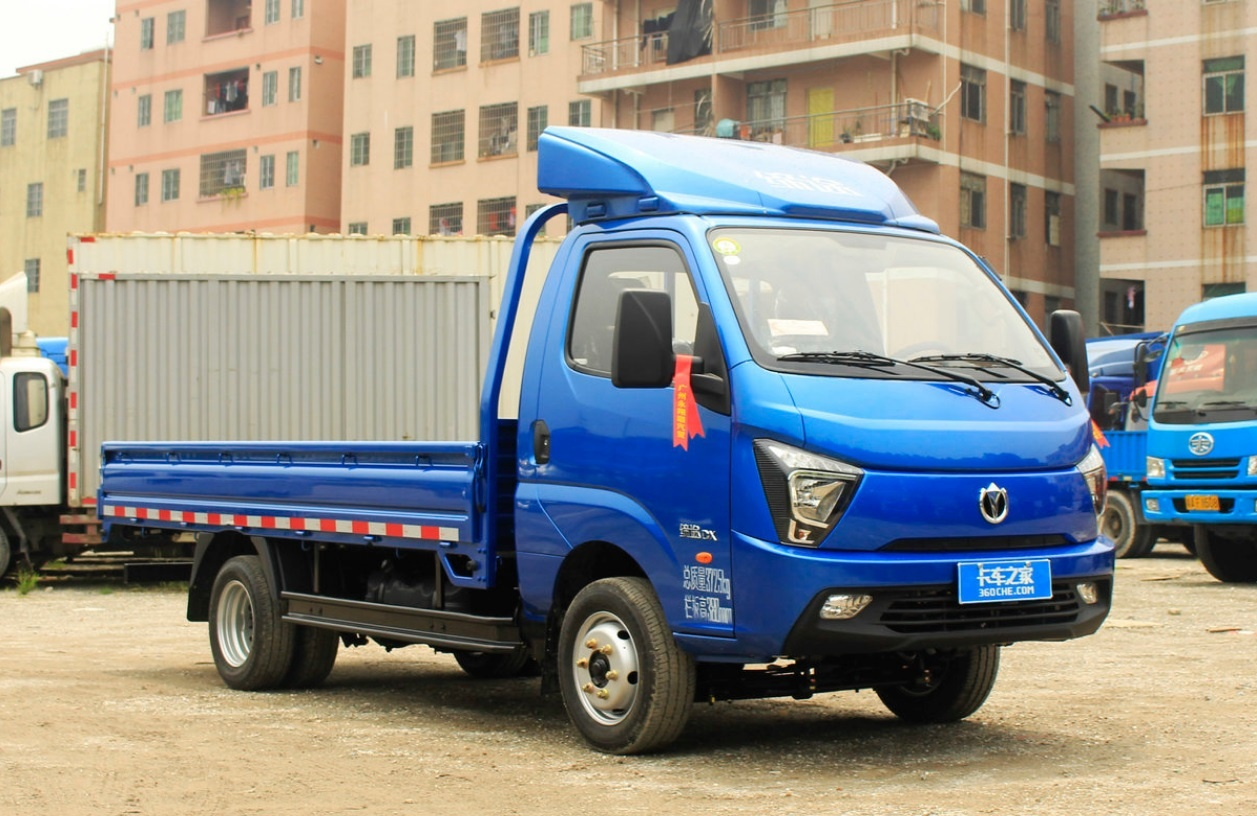truck: (60, 132, 1126, 739)
